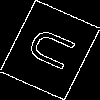U: (24, 25, 87, 77)
